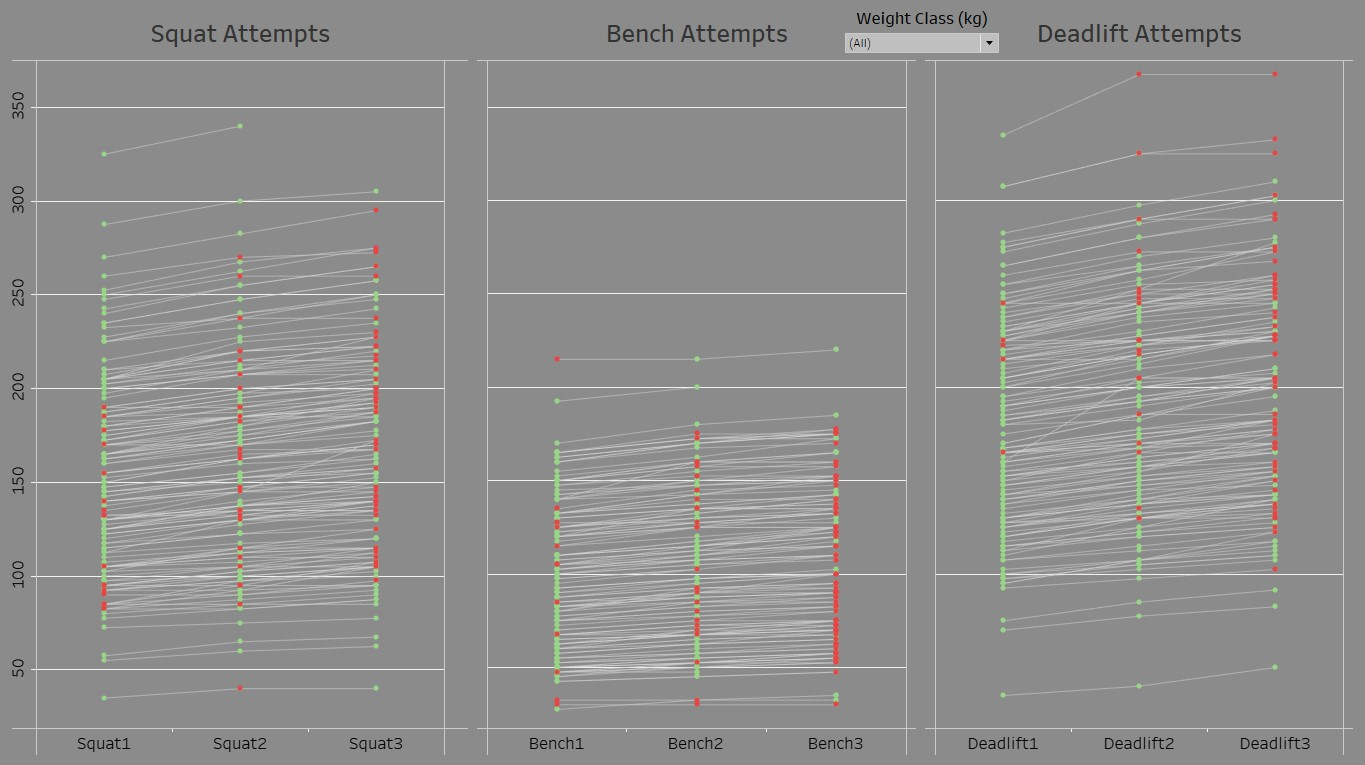

What the dashboard file says about the page in this screenshot:
{"tool":"tableau","page":{"name":"Attempts","canvas":[1366,768],"ordinal":0},"visuals":[{"type":"worksheet","title":"Squat","mark":"Circle","rows":["Calculation_932808097314070530","Calculation_932808097314070530"],"cols":["Pivot Field Names"],"box":[8,8,410.1,752]},{"type":"worksheet","title":"Bench","mark":"Circle","rows":["Calculation_932808097314070530","Calculation_932808097314070530"],"cols":["Pivot Field Names"],"box":[418.1,8,395.1,752]},{"type":"worksheet","title":"Deadlift","mark":"Circle","rows":["Calculation_932808097314070530","Calculation_932808097314070530"],"cols":["Pivot Field Names"],"box":[813.3,8,385.5,752]},{"type":"legend","title":"Squat","param":"[federated.0a6m34t0qxb0os11sy90s032ogwb].[none:Calculation_932808097313615873:nk","box":[1198.7,8,159.3,64]},{"type":"filter","title":"Squat","param":"[federated.0a6m34t0qxb0os11sy90s032ogwb].[none:Weight Class (kg):nk]","box":[1198.7,72,159.3,418]}]}

Visuals, with their boxes in screenshot pixels (x1, y1, x2, y2), scaled from the page's 1366x768 canvas onto the 1365x765 screenshot:
"Squat" worksheet (Circle marks): (left=8, top=8, right=418, bottom=757)
"Bench" worksheet (Circle marks): (left=418, top=8, right=813, bottom=757)
"Deadlift" worksheet (Circle marks): (left=813, top=8, right=1198, bottom=757)
"Squat" legend: (left=1198, top=8, right=1357, bottom=72)
"Squat" filter: (left=1198, top=72, right=1357, bottom=488)
